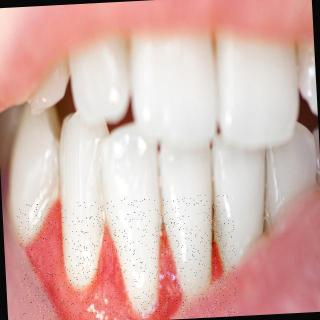Gum Swelling: (16, 214, 221, 320)
maligned: (99, 124, 169, 304)
